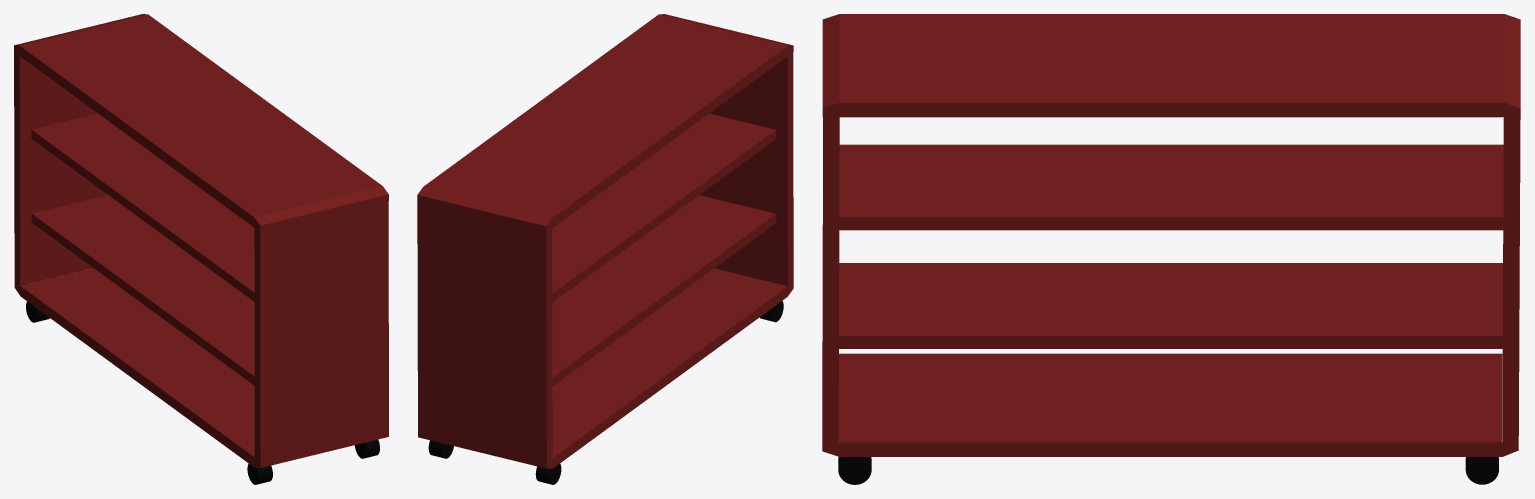
Rendered from toolstation.fbx.
3 renders of one model, left to right at view 1: azimuth 30°, elevation 25°; view 2: azimuth 150°, elevation 25°; view 3: azimuth 270°, elevation 25°, orthographic. The views are drawn at different scales.
Visible parts, largest first — view 1: Cube.002, Cylinder; view 2: Cube.002, Cylinder; view 3: Cube.002, Cylinder.
Part boxes in pixels (<box>): Cube.002: <box>14,14,388,468</box>; Cylinder: <box>26,301,379,484</box>; Cube.002: <box>417,14,793,468</box>; Cylinder: <box>428,301,783,484</box>; Cube.002: <box>822,14,1520,456</box>; Cylinder: <box>838,457,1498,484</box>.
Size of the model in its own units: 289 by 584 by 961.
